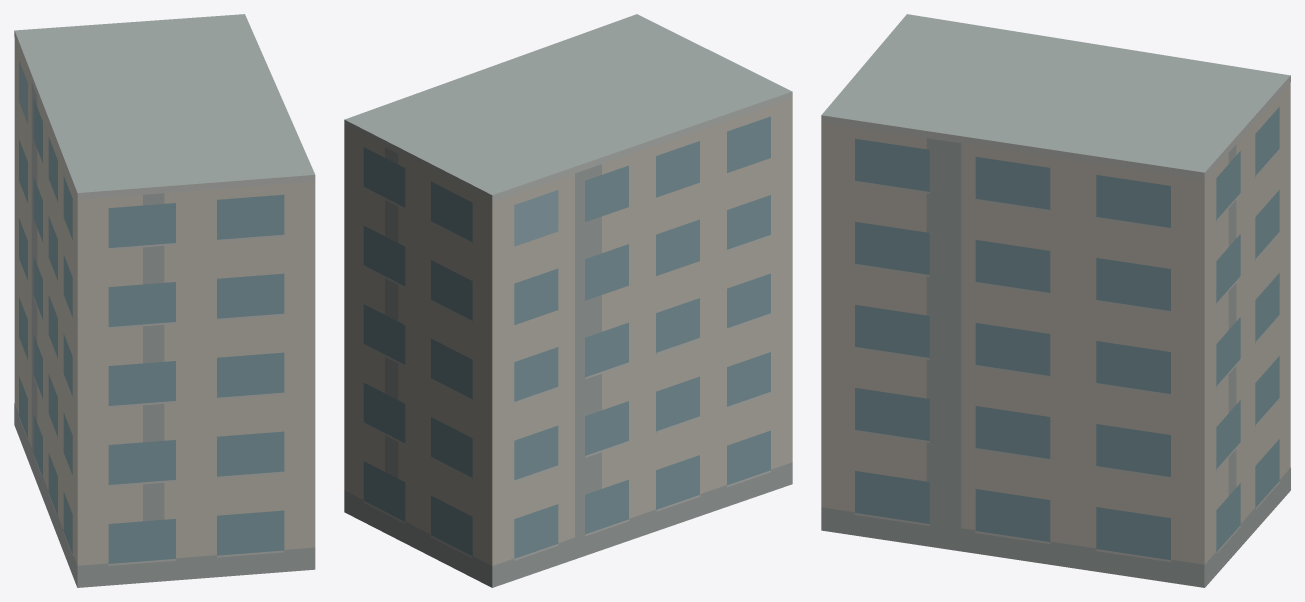
The model's file is survey-upis-32885974.glb.
3 renders of one model, left to right at view 1: azimuth 30°, elevation 25°; view 2: azimuth 150°, elevation 25°; view 3: azimuth 270°, elevation 25°, orthographic. The views are drawn at different scales.
Parts seen in each view (by area): view 1: survey-upis-32885974.tmp; view 2: survey-upis-32885974.tmp; view 3: survey-upis-32885974.tmp.
Part boxes in pixels (box(x1,y1,x2,y2)): survey-upis-32885974.tmp: box(14, 14, 315, 587); survey-upis-32885974.tmp: box(344, 14, 792, 587); survey-upis-32885974.tmp: box(821, 14, 1290, 587).
Bounding box in the file's own units: 11.64 × 14.2 × 14.56.
